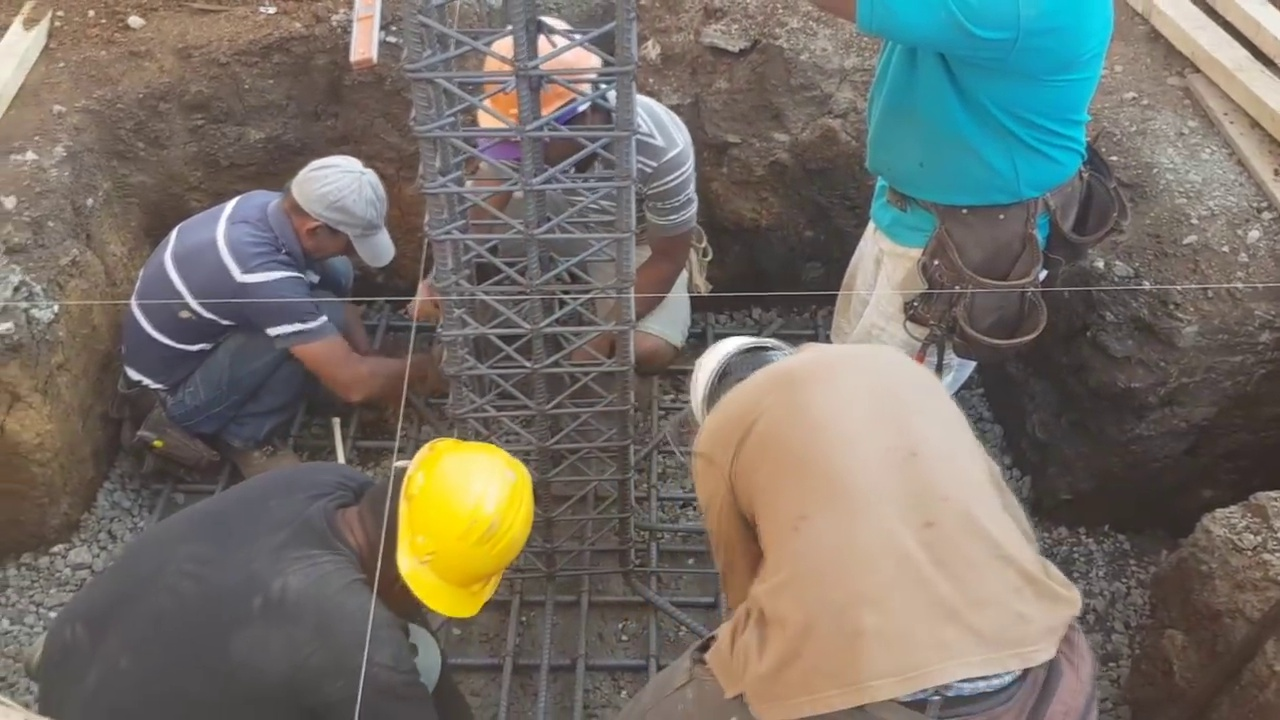helmet: (392, 441, 531, 621), (472, 21, 601, 139), (698, 343, 780, 435)
helmet-off: (282, 158, 394, 271)
helmet-on: (328, 433, 531, 622), (471, 18, 599, 185), (688, 330, 806, 437)
person: (613, 344, 1096, 717), (36, 433, 531, 709), (835, 0, 1115, 397), (120, 160, 445, 453), (464, 16, 689, 377)
